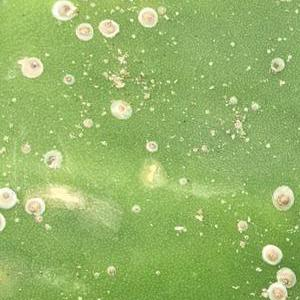Femea: (274, 191, 294, 211), (22, 60, 41, 80), (0, 188, 18, 207), (263, 248, 280, 265), (61, 74, 73, 85)
Linfa: (132, 93, 152, 109), (143, 77, 157, 90), (132, 76, 146, 87), (100, 70, 112, 80), (111, 81, 127, 88), (109, 72, 123, 80), (234, 129, 248, 137), (232, 118, 242, 128), (116, 55, 125, 63), (118, 51, 128, 58), (120, 68, 127, 77), (100, 57, 109, 63), (243, 136, 252, 142), (242, 106, 249, 113), (263, 142, 271, 148)
Macho: (172, 222, 187, 232)
